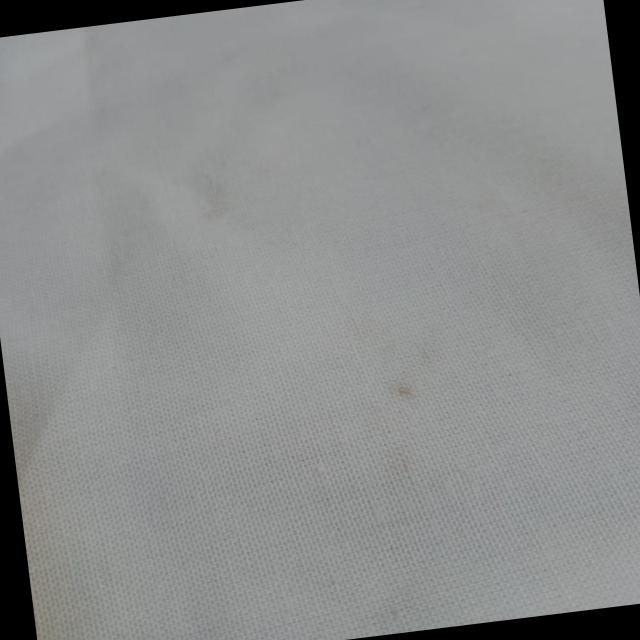stain: (364, 351, 447, 496)
